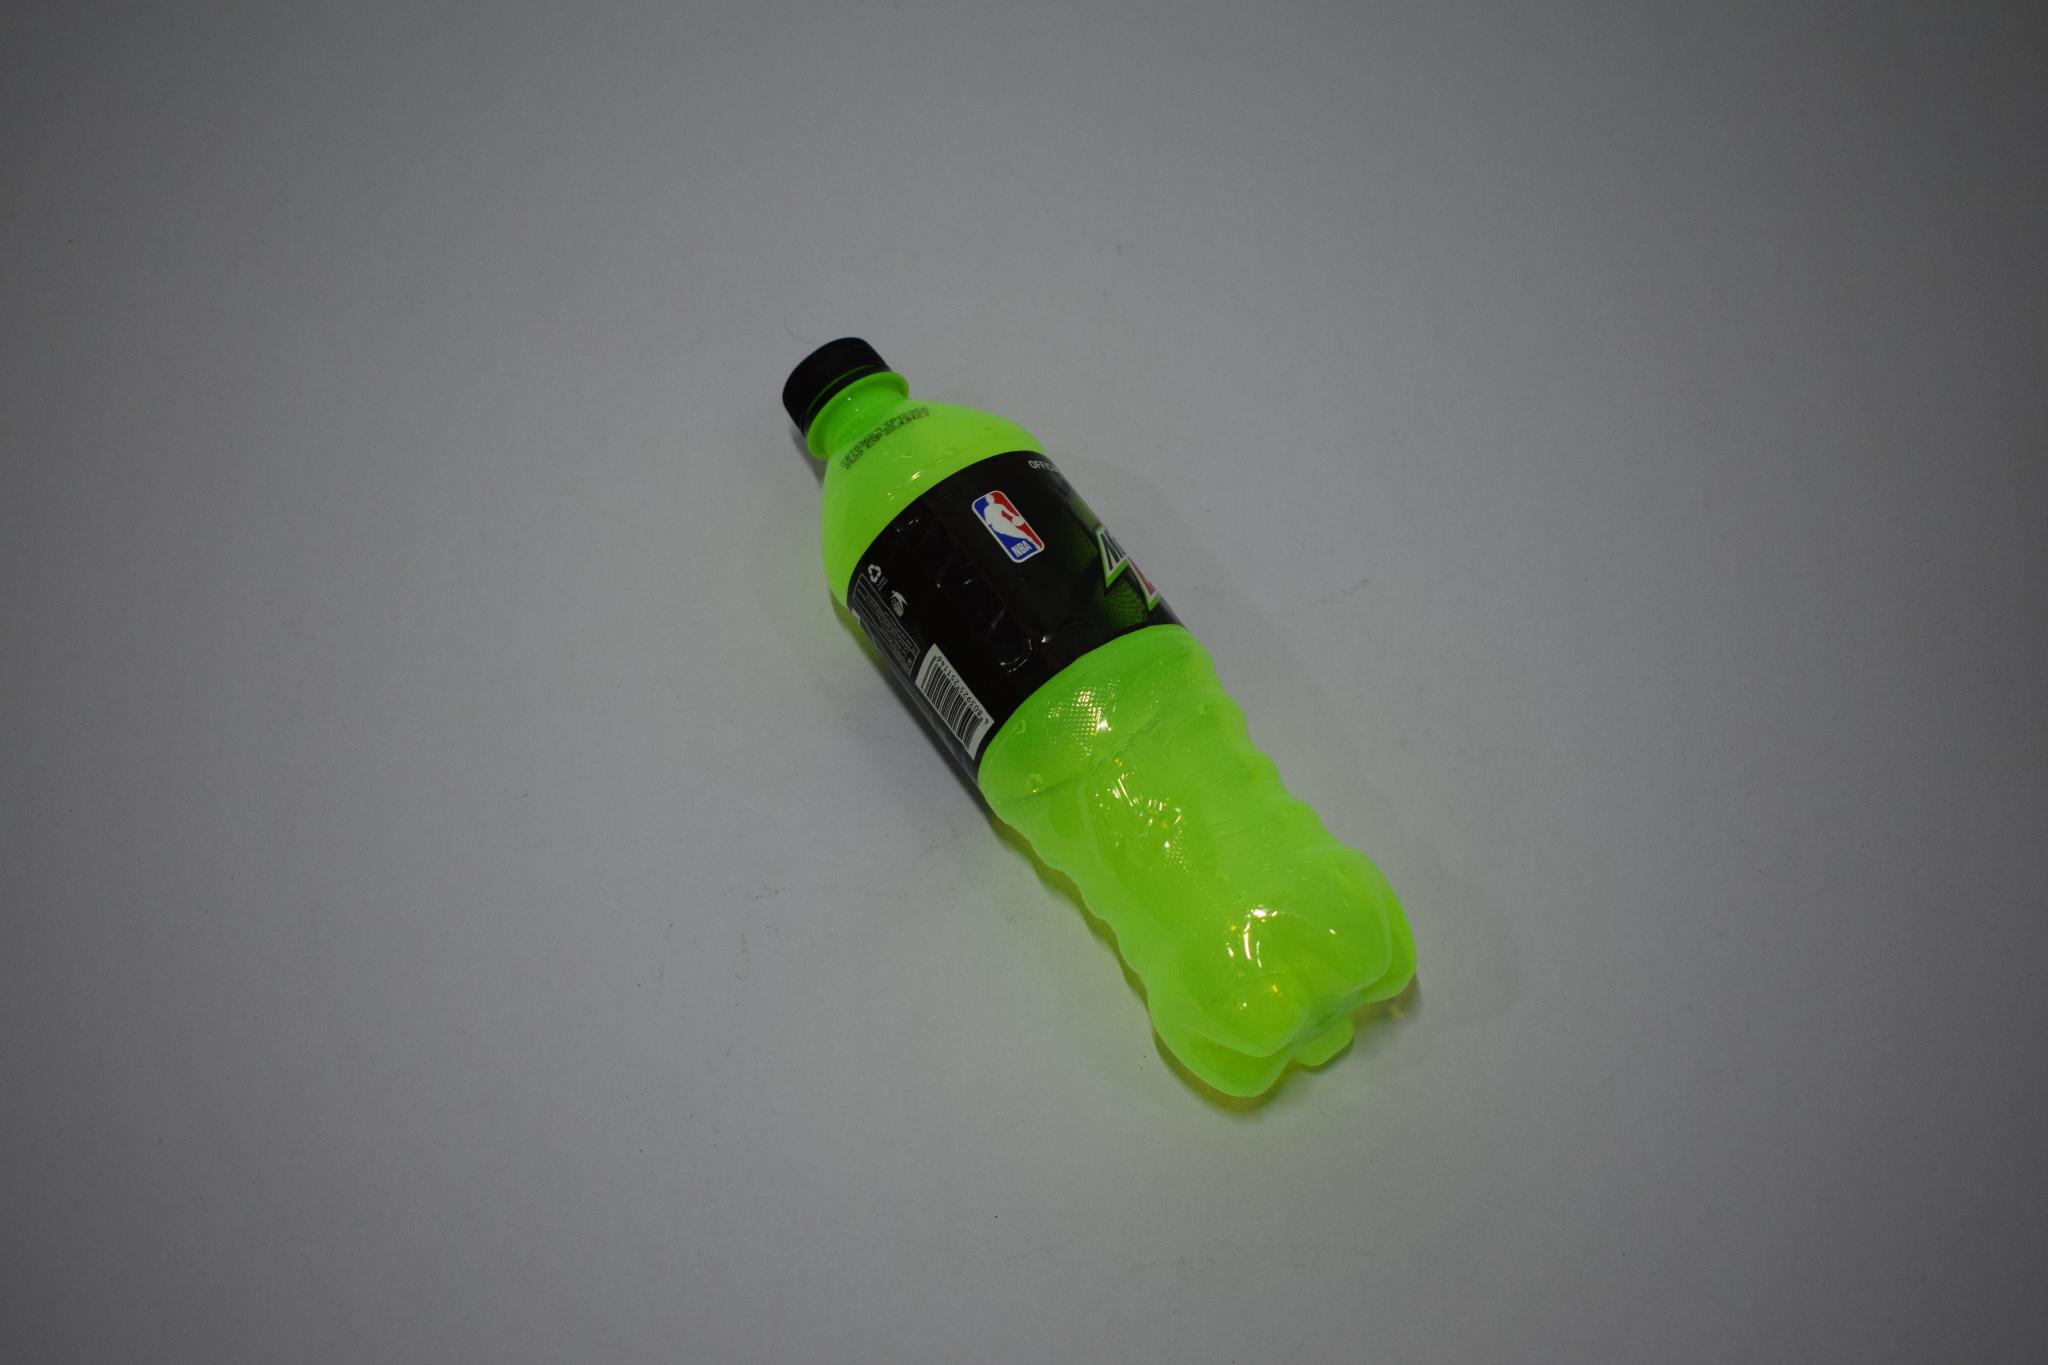bottle: (783, 320, 1422, 1126)
